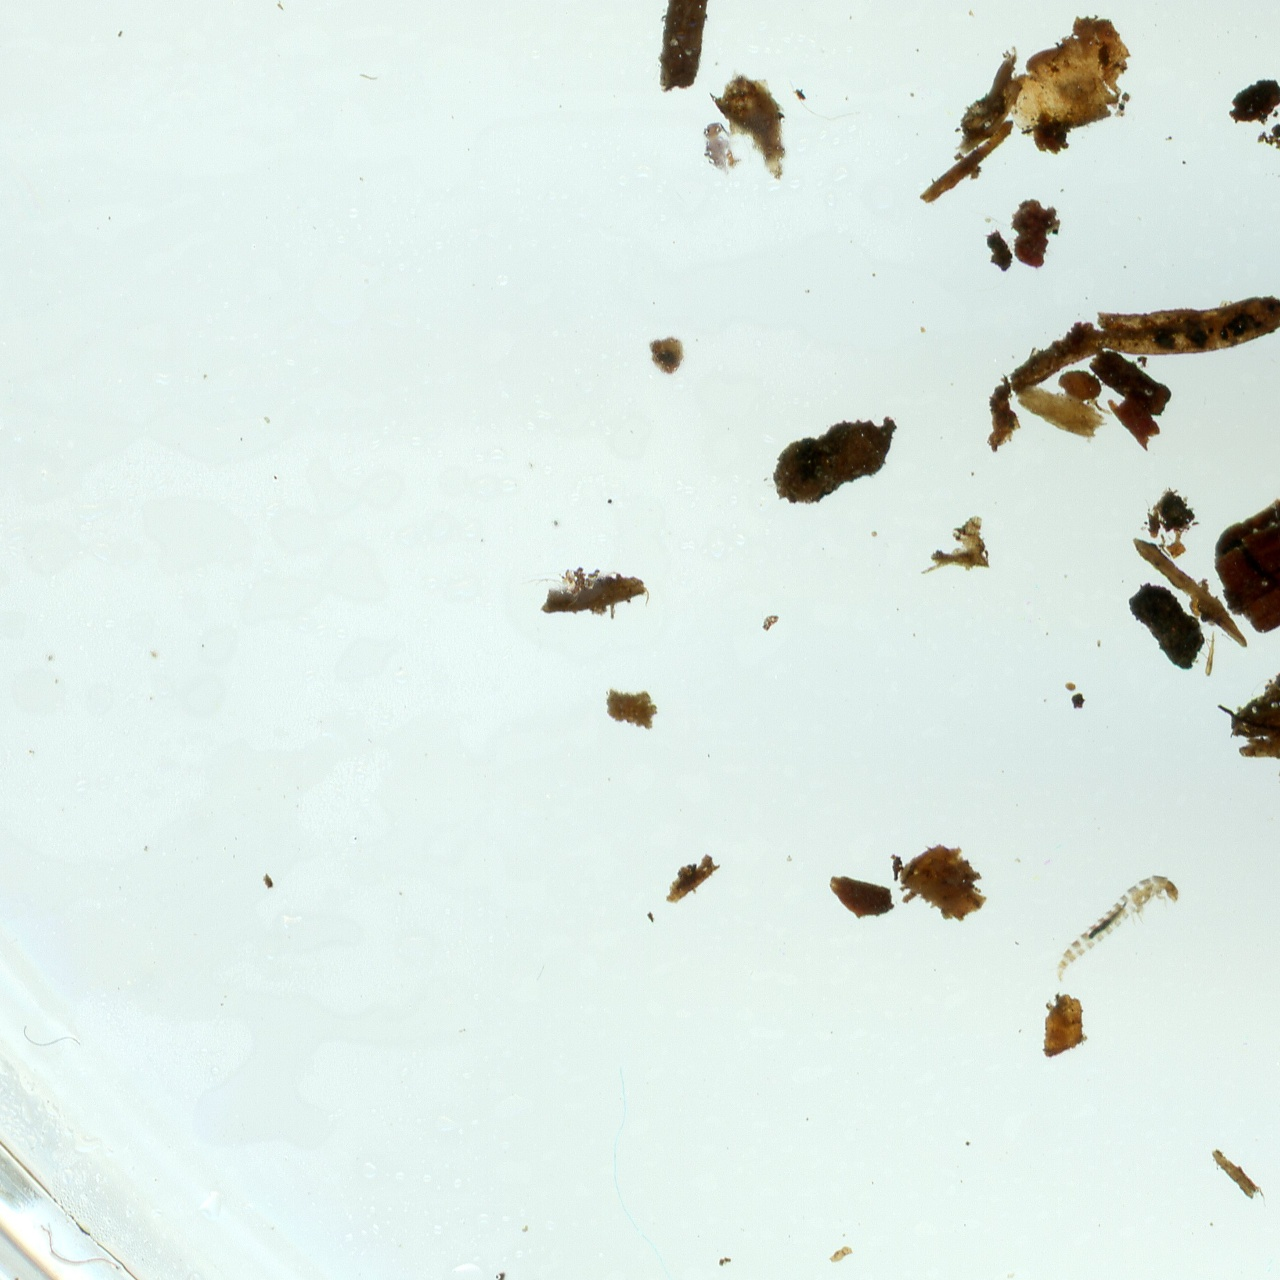arthropod: (1030, 855, 1191, 994), (691, 116, 748, 184)
